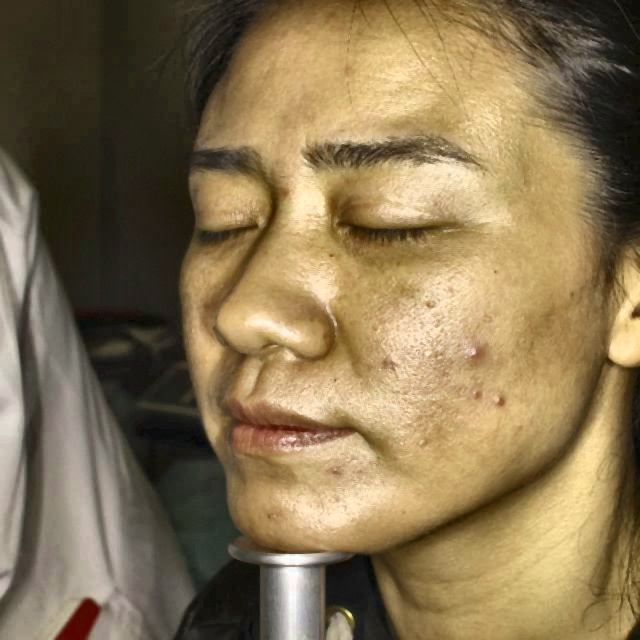comedone: (462, 342, 489, 362), (463, 386, 490, 401), (493, 387, 507, 411)
